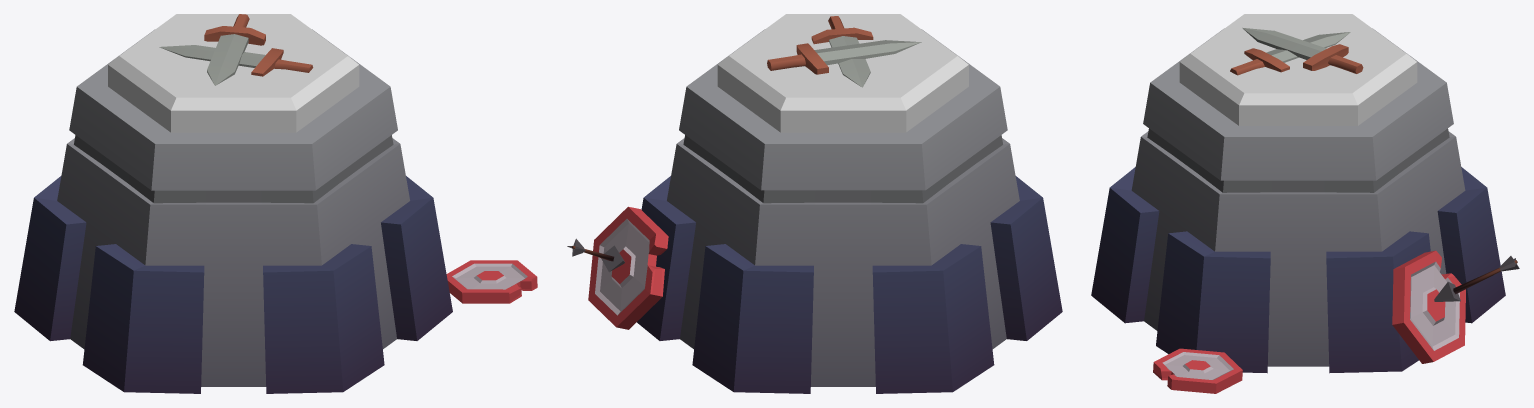
Rendered from Tower Base.fbx.
3 renders of one model, left to right at view 1: azimuth 30°, elevation 25°; view 2: azimuth 150°, elevation 25°; view 3: azimuth 270°, elevation 25°, orthographic. The views are drawn at different scales.
Parts seen in each view (by area): view 1: Cylinder.035, Cylinder.036, Cube.015; view 2: Cylinder.035, Cylinder.036, Cube.015; view 3: Cylinder.035, Cylinder.036, Cube.015.
Part boxes in pixels (x1=…): Cylinder.035: x1=14, y1=29, x2=537, y2=393; Cylinder.036: x1=108, y1=14, x2=359, y2=132; Cube.015: x1=159, y1=14, x2=313, y2=85; Cylinder.035: x1=567, y1=29, x2=1062, y2=393; Cylinder.036: x1=717, y1=14, x2=968, y2=132; Cube.015: x1=767, y1=16, x2=921, y2=87; Cylinder.035: x1=1091, y1=28, x2=1519, y2=393; Cylinder.036: x1=1179, y1=14, x2=1417, y2=125; Cube.015: x1=1230, y1=27, x2=1363, y2=75.
Size of the model in its own units: 311 by 196 by 299.
